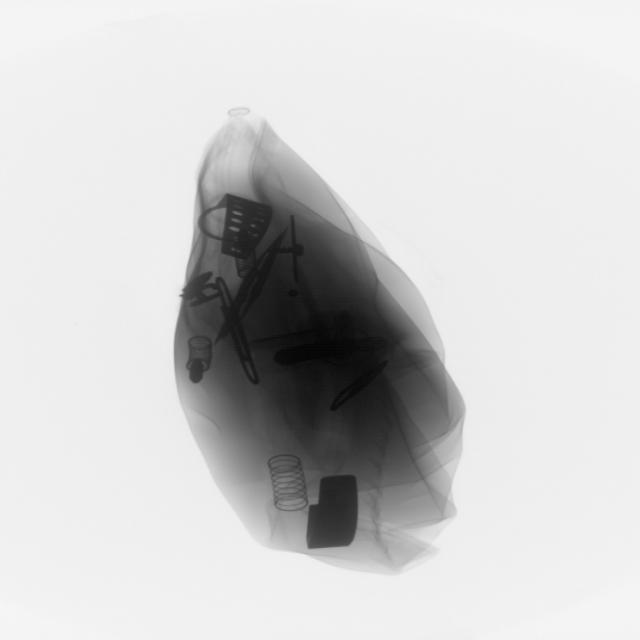BLADE: (204, 221, 299, 358)
